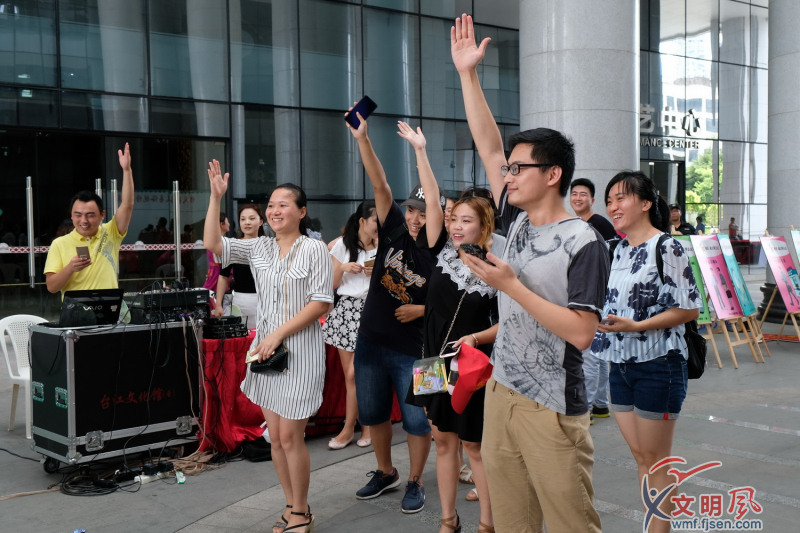handsup: (444, 12, 628, 529), (395, 106, 523, 525), (203, 156, 342, 530), (344, 79, 451, 516), (48, 136, 157, 323)
